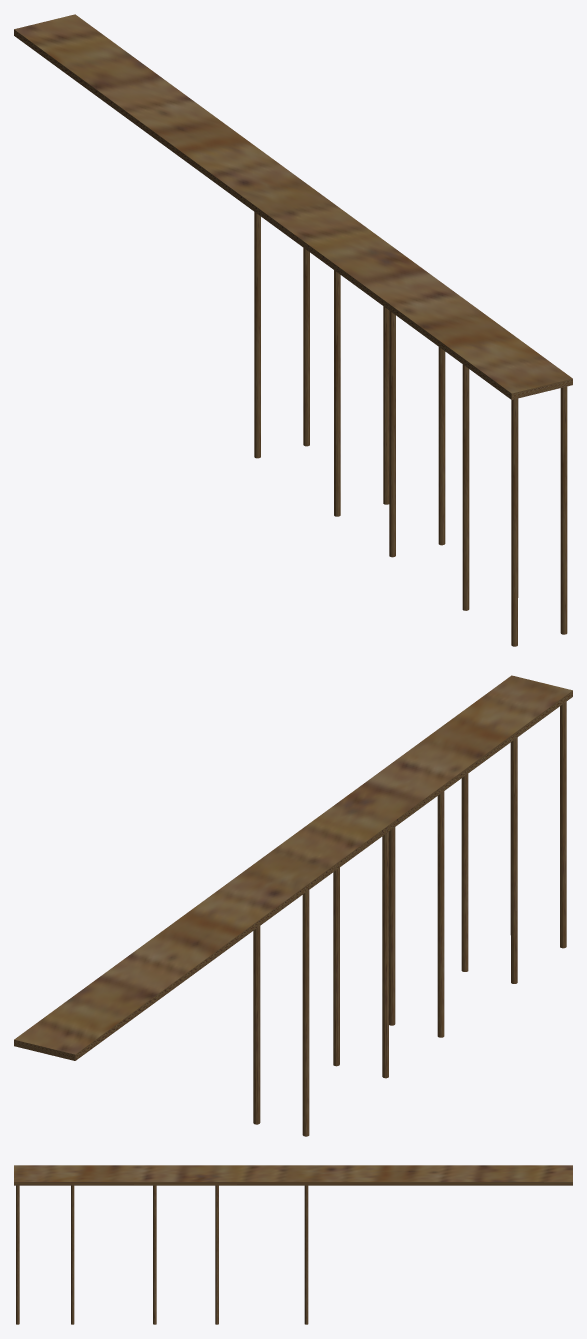
Rendered from dock.fbx.
3 renders of one model, top to bottom at view 1: azimuth 30°, elevation 25°; view 2: azimuth 150°, elevation 25°; view 3: azimuth 270°, elevation 25°, orthographic. The views are drawn at different scales.
Visible parts, largest first — view 1: dock_model, support8, support2, support1, support3, support5, support4, support10, support6, support7; view 2: dock_model, support3, support5, support1, support2, support4, support6, support9, support10, support7; view 3: dock_model, support6, support7, support8, support10, support9.
Boxes of the visible parts, x1,y1,x2,y2 form: dock_model: [14, 14, 572, 399]; support8: [560, 386, 567, 634]; support2: [462, 364, 469, 610]; support1: [511, 398, 517, 646]; support3: [389, 311, 395, 557]; support5: [254, 212, 260, 458]; support4: [334, 270, 340, 516]; support10: [438, 347, 445, 545]; support6: [303, 248, 309, 446]; support7: [383, 306, 389, 504]; dock_model: [14, 675, 572, 1060]; support3: [437, 791, 444, 1037]; support5: [302, 890, 309, 1136]; support1: [560, 702, 566, 948]; support2: [511, 737, 517, 983]; support4: [382, 832, 388, 1078]; support6: [253, 926, 260, 1124]; support9: [461, 774, 468, 971]; support10: [389, 827, 395, 1025]; support7: [333, 867, 339, 1066]; dock_model: [14, 1165, 572, 1185]; support6: [304, 1185, 308, 1324]; support7: [215, 1185, 218, 1324]; support8: [16, 1185, 19, 1324]; support10: [153, 1185, 156, 1324]; support9: [71, 1185, 74, 1324].
Size of the model in its own units: 3.94 by 15.72 by 55.47.
Materials: 1 (1 with a texture image).
